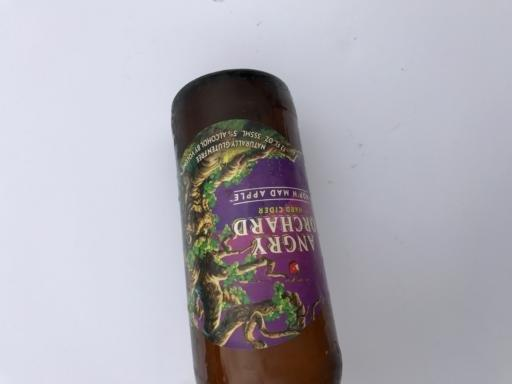botolkaca: (172, 70, 344, 384)
